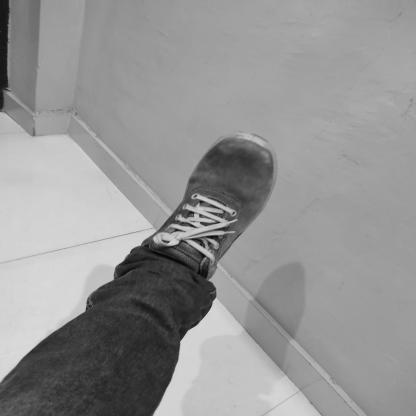ankle: (186, 245, 189, 248)
heel: (145, 245, 147, 247)
pinky: (270, 171, 274, 175)
right_foot: (141, 132, 279, 282)
toe: (222, 142, 227, 145)
